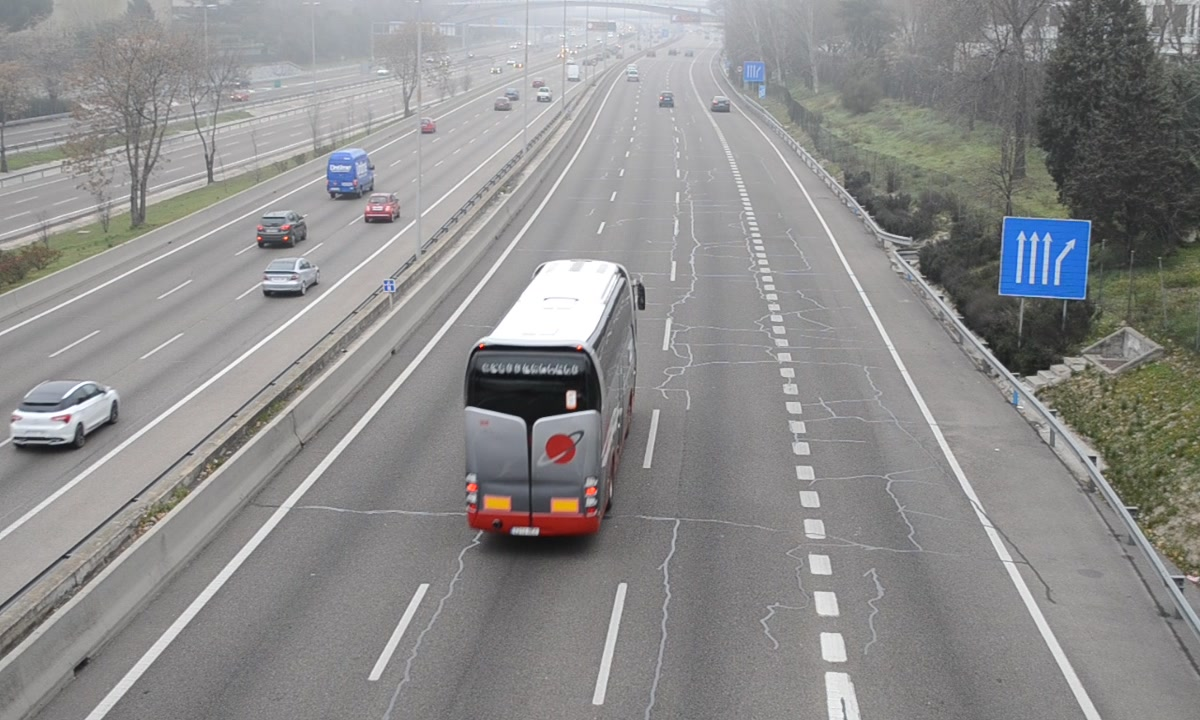bus: (460, 261, 638, 537)
car: (710, 94, 731, 113), (658, 90, 676, 109)
